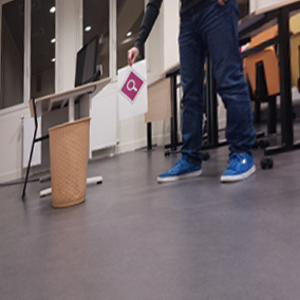search: (120, 68, 146, 103)
